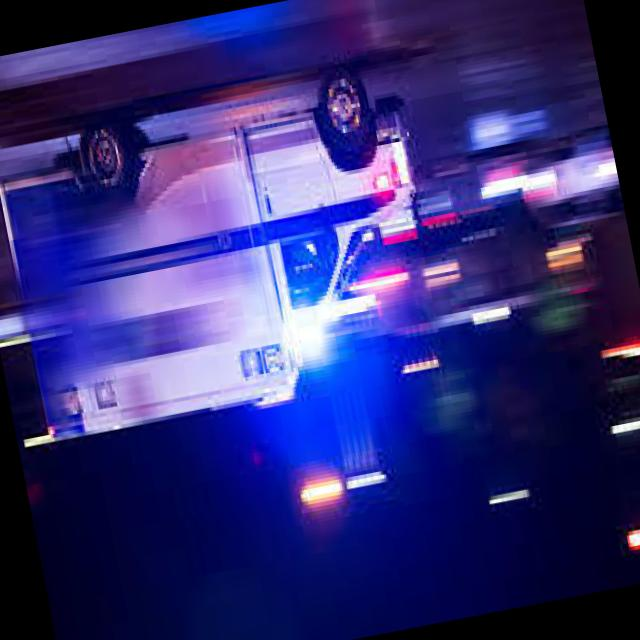ambulance: (138, 232, 396, 429)
